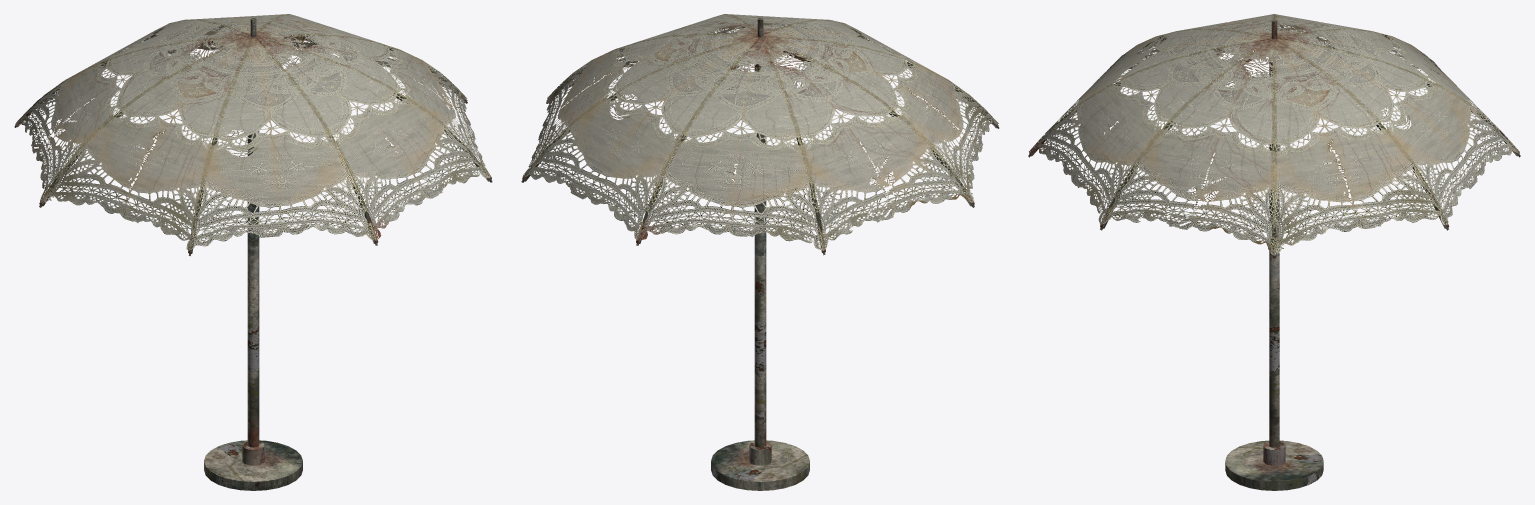
The model's file is Umbrella_V2_1.fbx.
3 views of the same model, side by side, from view 1: azimuth 30°, elevation 25°; view 2: azimuth 150°, elevation 25°; view 3: azimuth 270°, elevation 25° (orthographic).
Visible parts, largest first — view 1: Umbrella_V2_1; view 2: Umbrella_V2_1; view 3: Umbrella_V2_1.
Part boxes in pixels (left/top/right/bottom): Umbrella_V2_1: left=14, top=14, right=492, bottom=490; Umbrella_V2_1: left=521, top=14, right=999, bottom=490; Umbrella_V2_1: left=1028, top=14, right=1520, bottom=490.
Size of the model in its own units: 267 by 268 by 267.
1 material, 1 textured.
